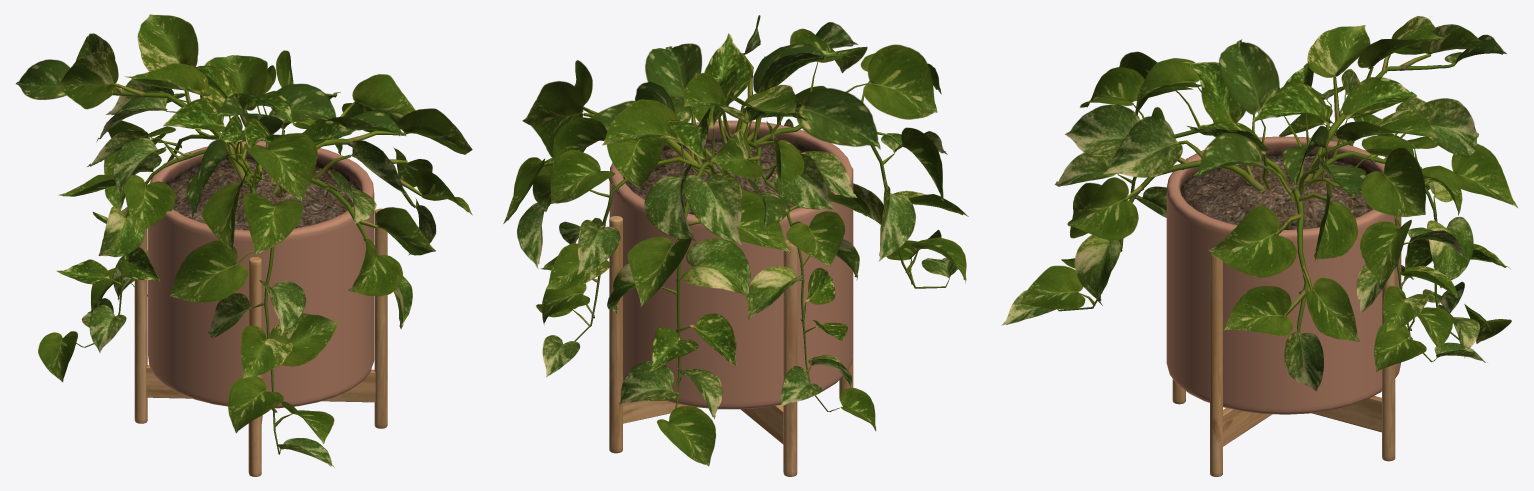
Rendered from pothos.glb.
3 views of the same model, side by side, from view 1: azimuth 30°, elevation 25°; view 2: azimuth 150°, elevation 25°; view 3: azimuth 270°, elevation 25° (orthographic). The views are drawn at different scales.
Parts seen in each view (by area): view 1: POTHOS, POT_WOOD_LEGS; view 2: POTHOS, POT_WOOD_LEGS; view 3: POTHOS, POT_WOOD_LEGS.
Boxes of the visible parts, x1,y1,x2,y2 form: POTHOS: [16, 14, 472, 467]; POT_WOOD_LEGS: [134, 141, 387, 476]; POTHOS: [503, 15, 968, 466]; POT_WOOD_LEGS: [609, 120, 853, 476]; POTHOS: [1001, 16, 1517, 391]; POT_WOOD_LEGS: [1166, 136, 1401, 476].
Bounding box in the file's own units: 0.8266 × 0.7916 × 0.9741.
Materials: 2 (2 with a texture image).
